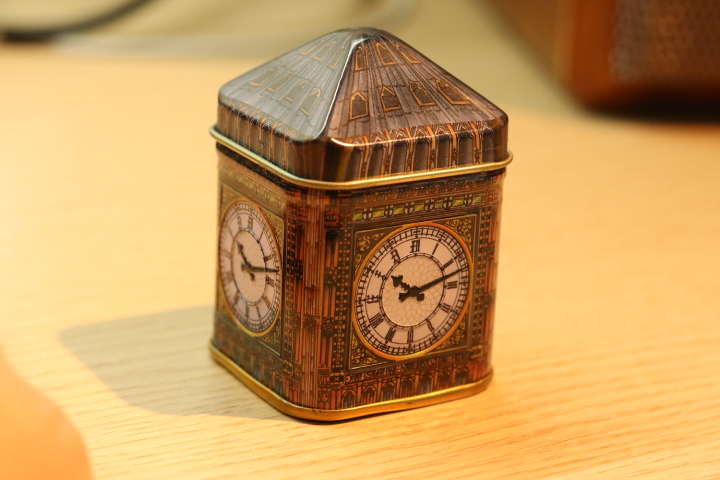Big Ben: (200, 24, 523, 434)
